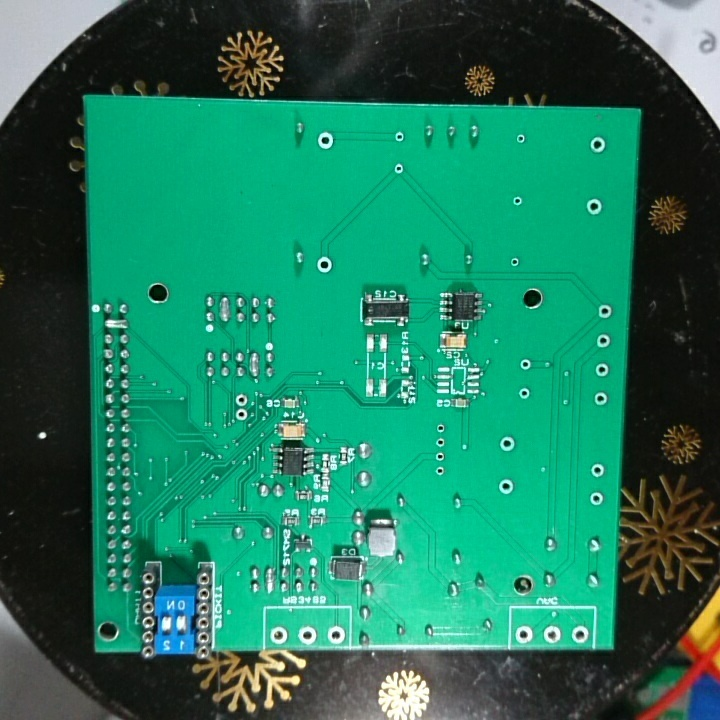F: (323, 623, 347, 646), (267, 623, 290, 647), (314, 129, 337, 152), (568, 623, 591, 646), (585, 195, 607, 218), (496, 475, 518, 498), (296, 623, 318, 646), (588, 133, 610, 155), (541, 624, 564, 645), (497, 432, 516, 456), (514, 622, 533, 646), (588, 460, 607, 483), (596, 300, 614, 324), (315, 254, 335, 275), (594, 332, 613, 354), (586, 488, 604, 510), (433, 459, 448, 483), (593, 360, 610, 380), (516, 384, 533, 403), (233, 390, 250, 409), (592, 390, 609, 408), (233, 406, 249, 425), (393, 127, 407, 147), (393, 158, 407, 178), (513, 131, 530, 147), (434, 447, 447, 467), (519, 355, 532, 374), (510, 193, 525, 209), (434, 432, 447, 450), (434, 420, 447, 437), (508, 255, 523, 269)
P: (99, 317, 133, 332), (217, 295, 232, 327), (247, 349, 261, 383), (262, 566, 276, 597)
